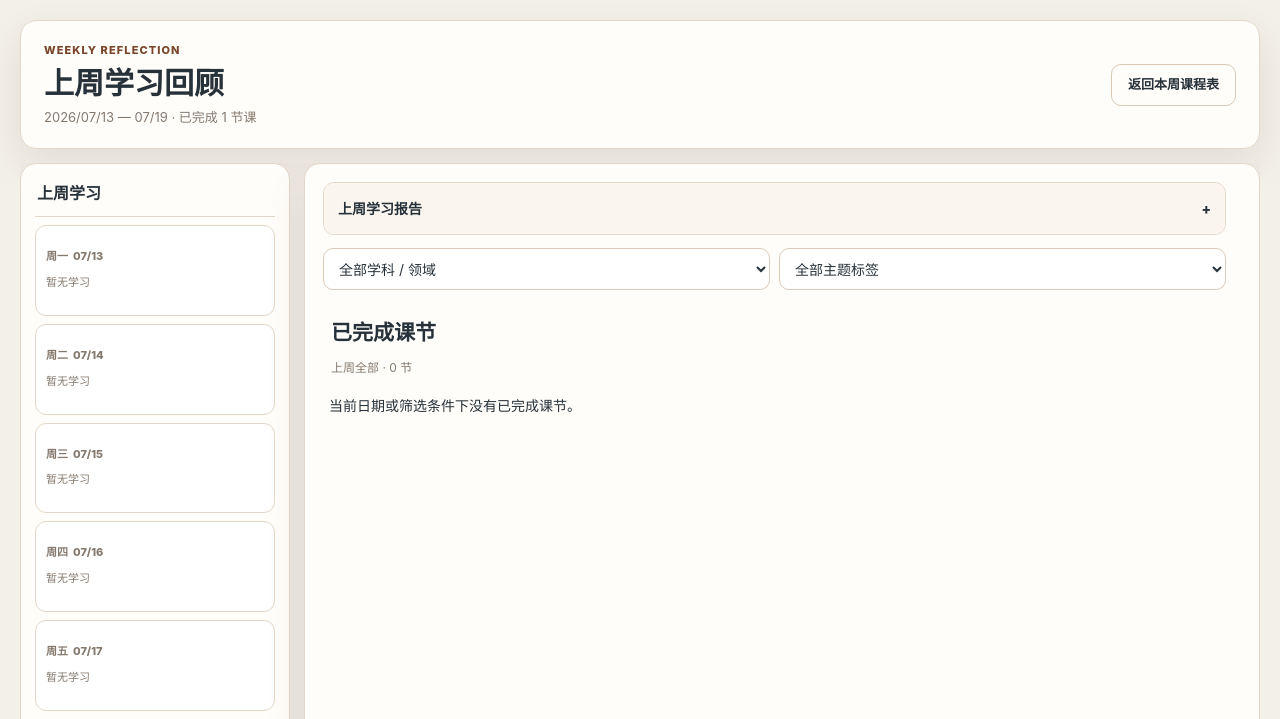
Test: weekly snapshot state › shows one learning outcome summary without a next-week suggestion panel
Click the button "上周学习报告 +". click: (380, 209)
box: x1=324 y1=183 x2=1225 y2=234
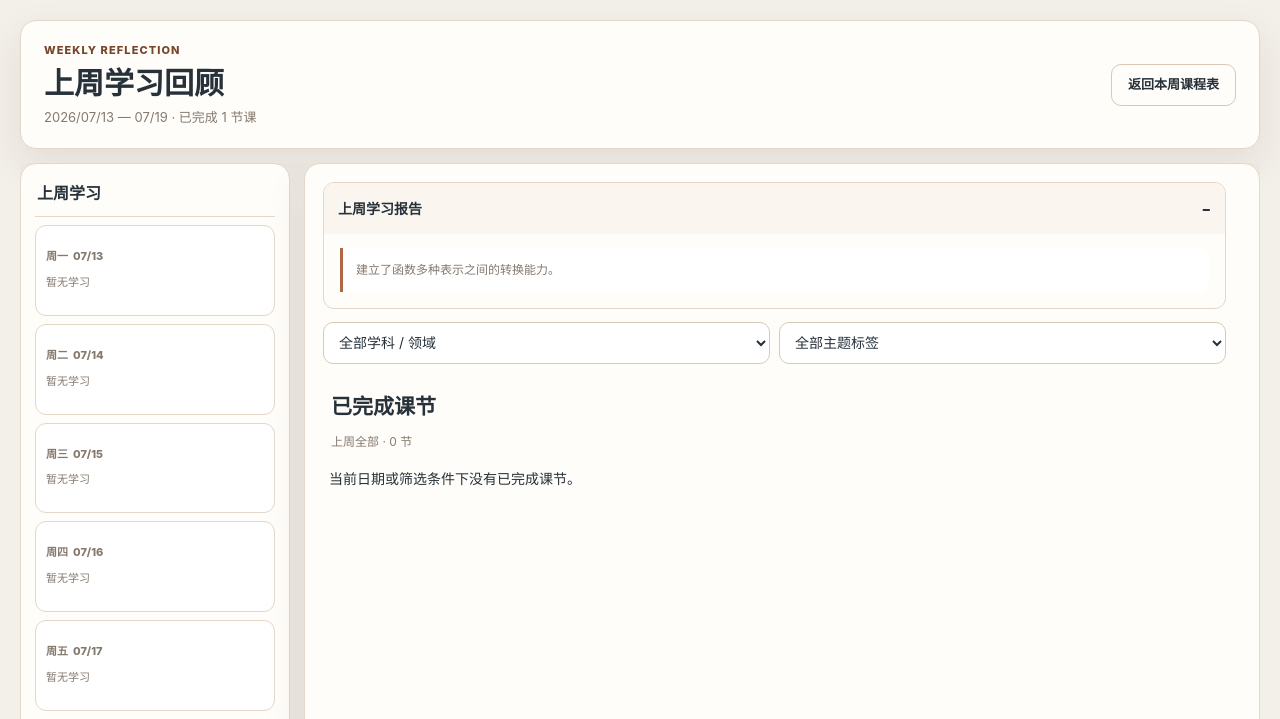
Result: the text "建立了函数多种表示之间的转换能力。" is shown at x1=356 y1=262 x2=560 y2=277
